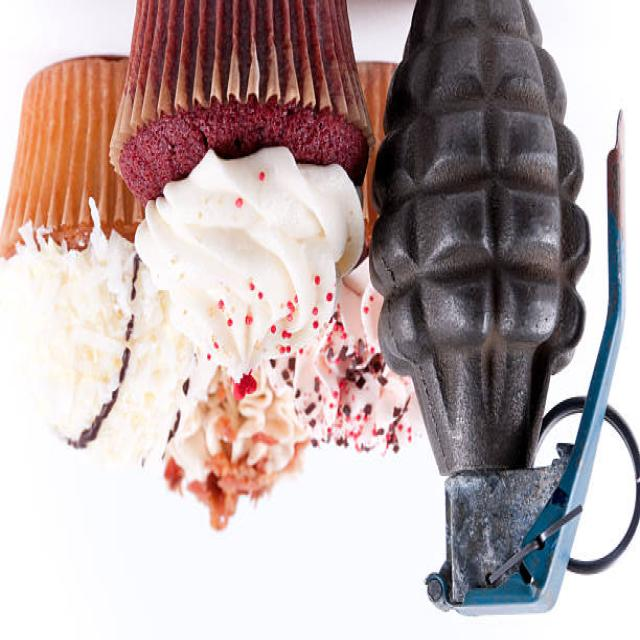grenade: (365, 1, 640, 633)
